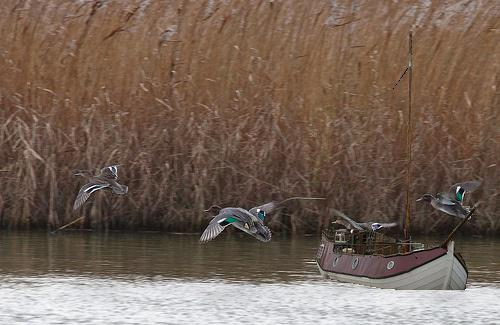tampered: (316, 32, 476, 290)
